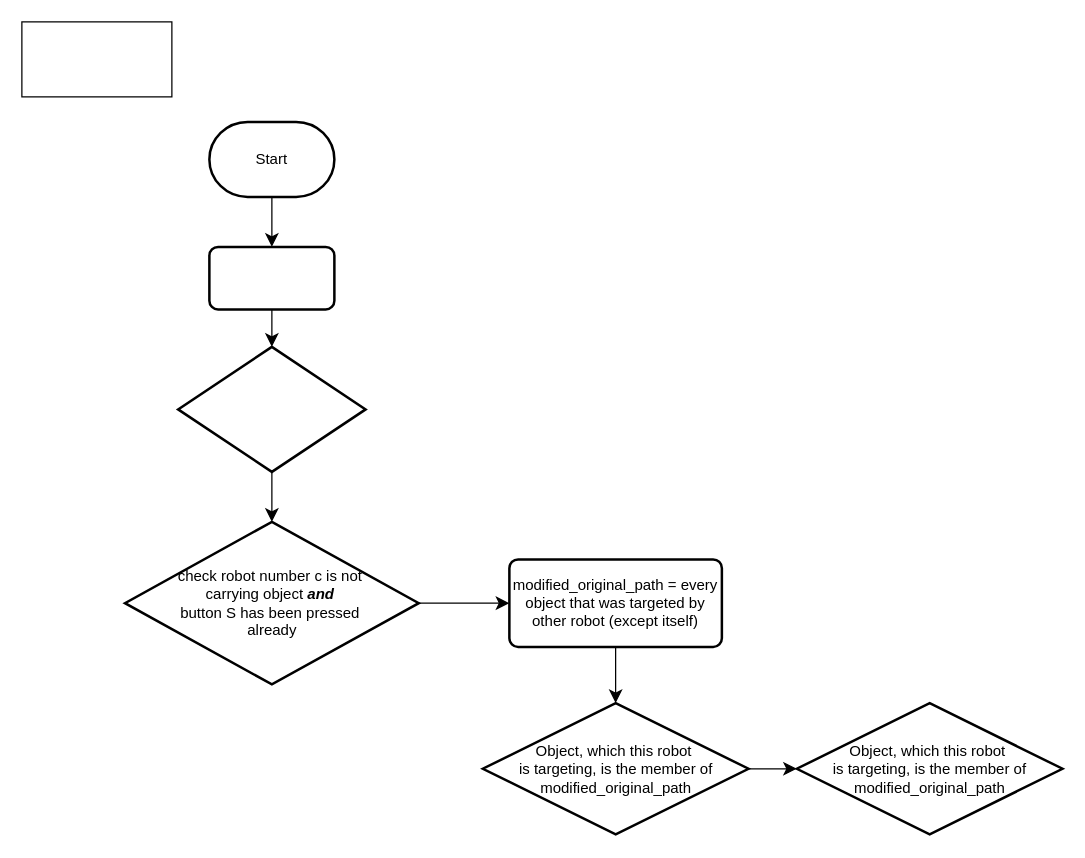
The diagram is 1085 pixels wide and 858 high, and some of its shapes have lost their labels. Each missing label, with the box of its shape:
Applying A* part: (21, 21, 172, 97)
c = 0: (208, 245, 335, 310)
while c < number of robot: (176, 345, 366, 472)
